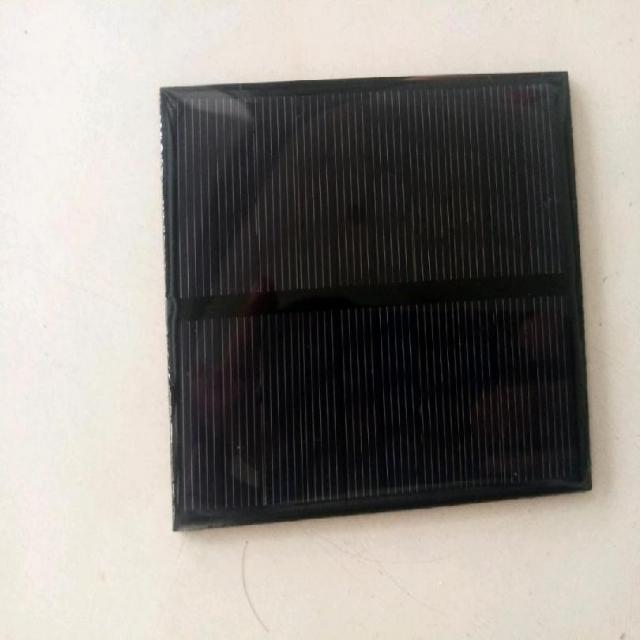no faulty: (168, 81, 579, 518)
